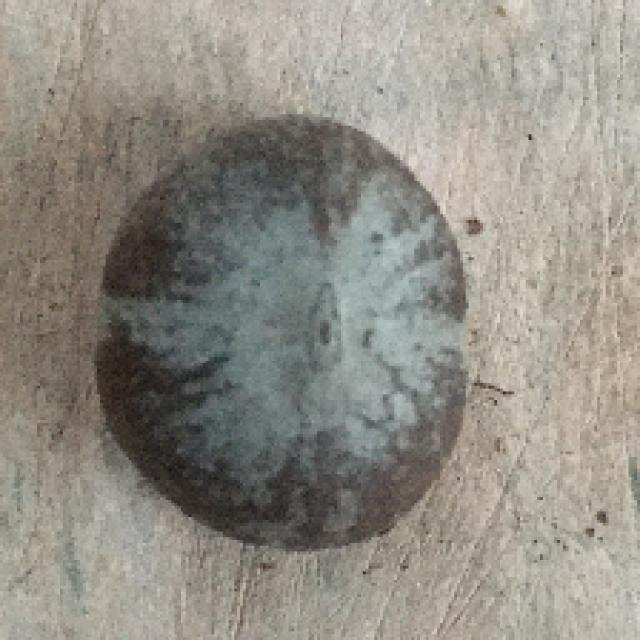damagedHazelnut: (96, 111, 476, 566)
